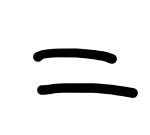eqv: (33, 49, 138, 98)
